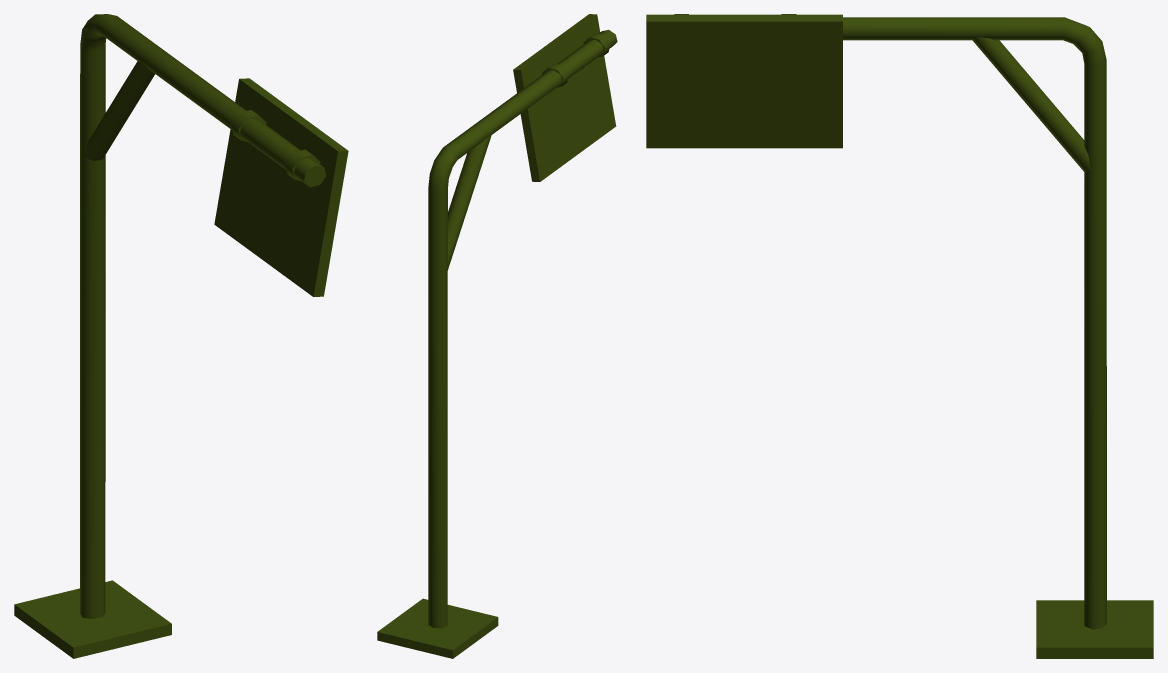
Rendered from T2_Lights03_R_M.fbx.
3 renders of one model, left to right at view 1: azimuth 30°, elevation 25°; view 2: azimuth 150°, elevation 25°; view 3: azimuth 270°, elevation 25°, orthographic. The views are drawn at different scales.
Visible parts, largest first — view 1: T2_Lights03R; view 2: T2_Lights03R; view 3: T2_Lights03R, T2_Lights03_L1R.
Part boxes in pixels (x1,y1,x2,y2): T2_Lights03R: (14,14,348,658); T2_Lights03R: (377,14,617,658); T2_Lights03R: (646,14,1153,658); T2_Lights03_L1R: (672,42,817,128).
Size of the model in its own units: 0.2991 by 1.86 by 1.35.
